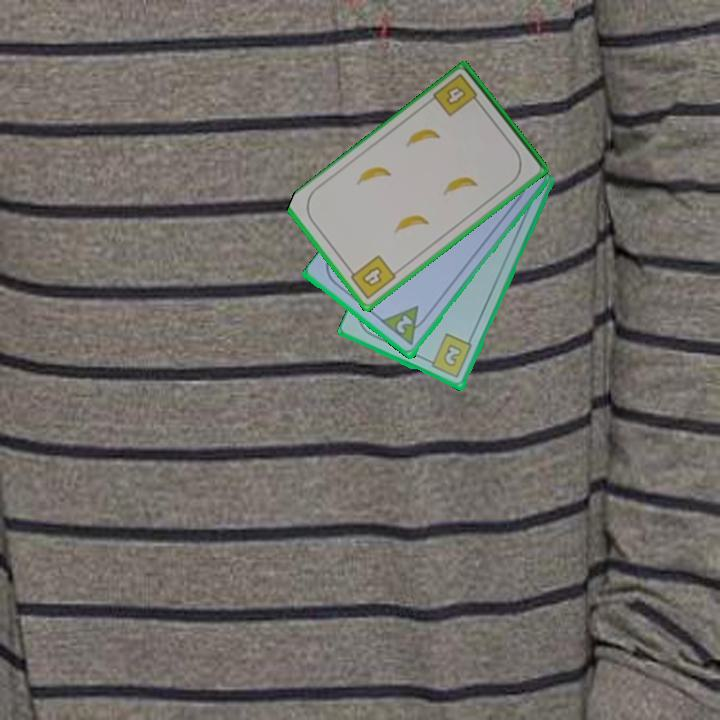2b: (423, 331, 475, 381)
2p: (378, 302, 432, 349)
4b: (344, 251, 399, 302), (430, 70, 484, 119)
